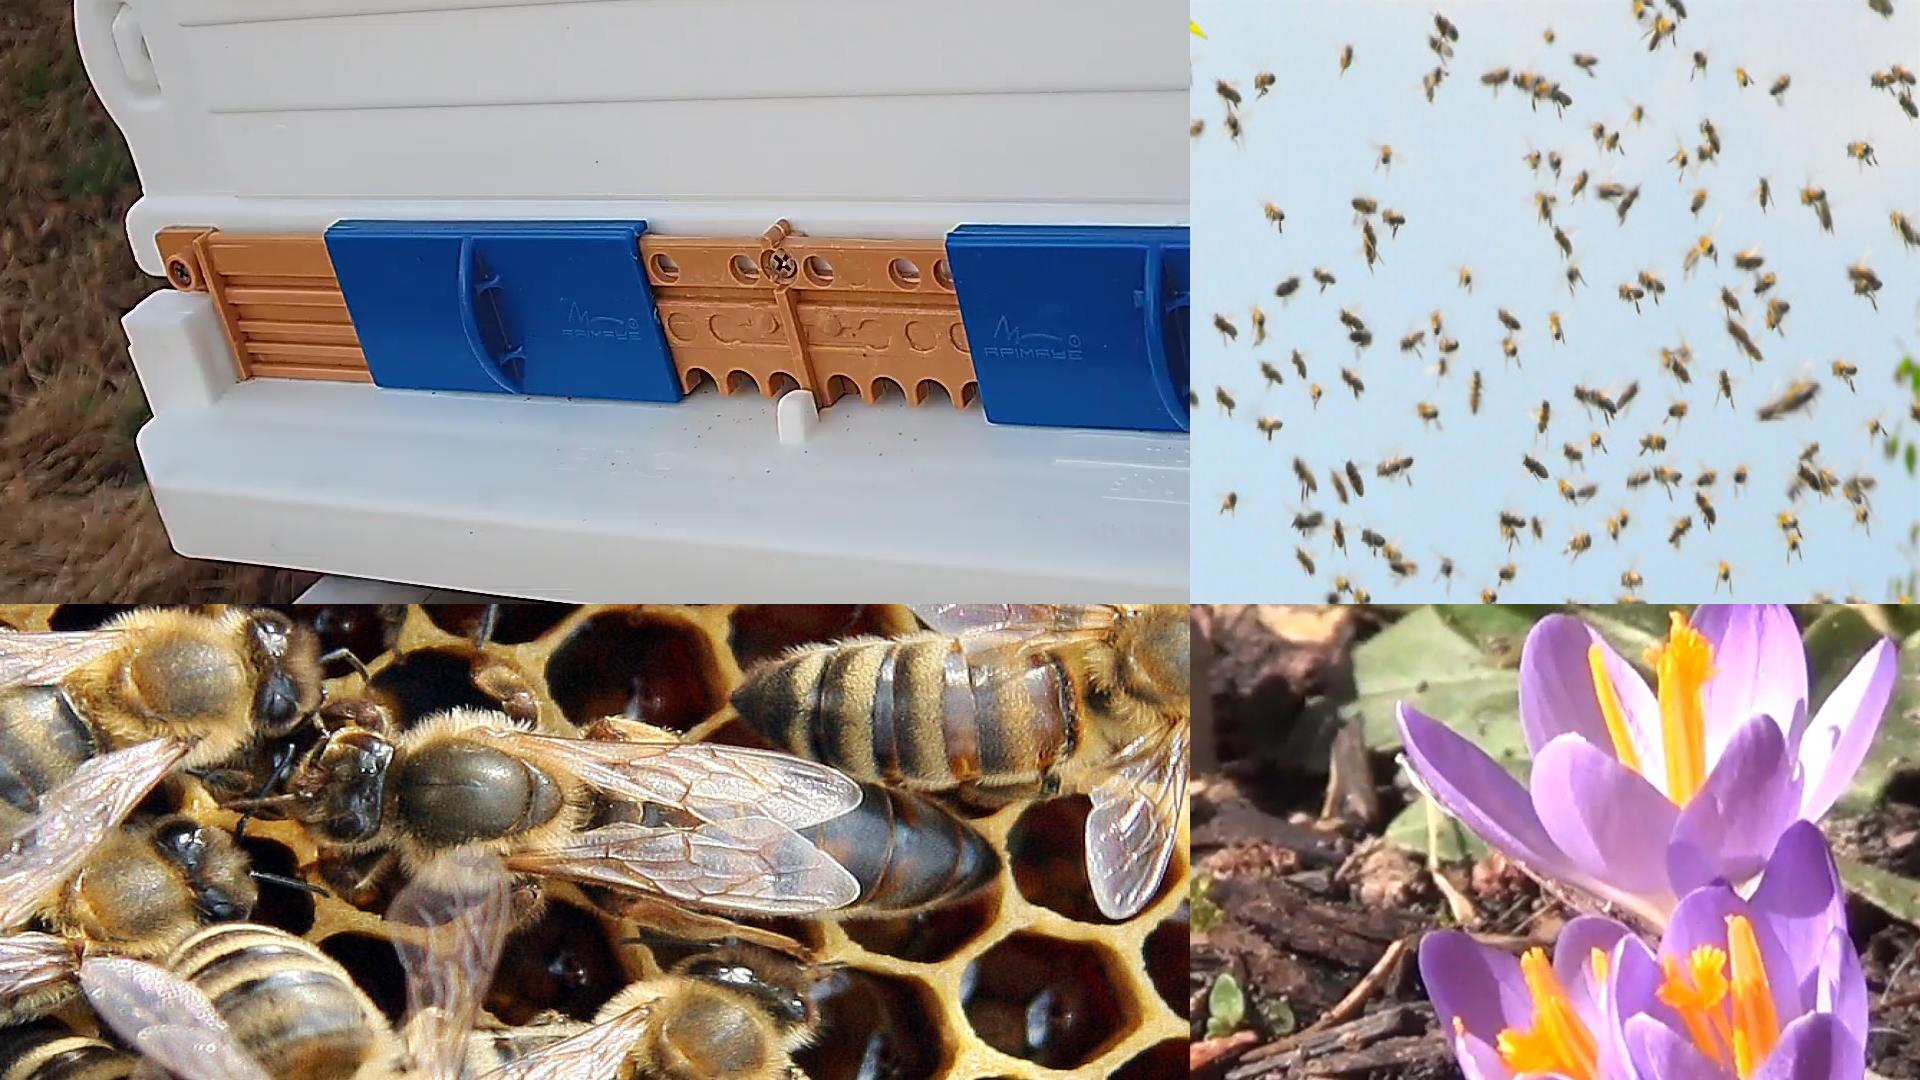bee: (731, 604, 1189, 789), (0, 613, 307, 836), (0, 825, 248, 1006), (158, 920, 417, 1079), (491, 957, 811, 1079), (0, 1009, 158, 1079), (1891, 211, 1919, 245), (1294, 456, 1317, 491), (1695, 491, 1716, 522), (1792, 380, 1820, 404), (1850, 266, 1883, 286), (1796, 463, 1818, 491), (1618, 380, 1639, 409), (1345, 462, 1362, 497), (1759, 400, 1789, 419), (1741, 336, 1763, 363), (1669, 516, 1692, 542), (1341, 367, 1365, 390), (1296, 546, 1315, 576), (1436, 12, 1457, 38), (1572, 386, 1598, 407), (1424, 67, 1444, 95), (1648, 13, 1663, 50), (1524, 455, 1548, 477), (1590, 392, 1615, 413), (1891, 65, 1916, 86), (1364, 223, 1377, 262), (1768, 301, 1788, 327), (1340, 311, 1366, 331), (1899, 94, 1919, 120), (1498, 307, 1520, 330), (1292, 348, 1308, 380), (1845, 476, 1876, 492), (1511, 74, 1540, 91), (1216, 80, 1241, 100), (1618, 187, 1636, 214), (1294, 512, 1320, 530), (1654, 468, 1681, 485), (1755, 272, 1776, 294), (1216, 315, 1237, 338), (1262, 361, 1283, 384), (1671, 360, 1691, 384), (1390, 456, 1414, 476), (1832, 359, 1857, 377), (1556, 225, 1572, 255), (1254, 309, 1267, 343), (1639, 435, 1665, 452), (1846, 142, 1873, 160), (1726, 320, 1747, 342), (1770, 74, 1791, 95), (1718, 368, 1733, 398), (1332, 472, 1346, 502), (1639, 273, 1663, 291), (1619, 282, 1643, 301), (1361, 527, 1385, 546), (1704, 124, 1720, 152), (1817, 469, 1832, 498), (1855, 280, 1875, 301), (1627, 471, 1650, 489), (1664, 0, 1687, 18), (1801, 186, 1825, 203), (1400, 331, 1424, 348), (1818, 202, 1833, 229), (1571, 170, 1586, 195), (1788, 476, 1804, 501), (1871, 73, 1896, 88), (1276, 277, 1298, 295), (1216, 386, 1234, 407), (1429, 38, 1451, 57), (1549, 313, 1563, 342), (1867, 0, 1894, 15), (1691, 190, 1706, 214), (1259, 417, 1283, 433), (1568, 534, 1592, 550), (1316, 268, 1336, 286), (1799, 440, 1818, 459), (1820, 468, 1840, 487), (1573, 53, 1598, 67), (1484, 69, 1509, 83), (1722, 289, 1739, 310), (1349, 330, 1370, 347), (1416, 402, 1437, 419), (1538, 401, 1549, 431), (1560, 480, 1576, 502), (1393, 562, 1415, 578), (1353, 198, 1377, 212), (1472, 371, 1480, 414), (1775, 513, 1799, 527), (1669, 398, 1688, 417), (1697, 469, 1717, 487), (1382, 542, 1402, 559), (1538, 83, 1557, 100), (1758, 177, 1768, 208), (1622, 572, 1643, 588), (1538, 194, 1551, 219), (1332, 520, 1345, 545), (1382, 210, 1404, 224), (1378, 459, 1396, 476), (1555, 90, 1572, 108), (1563, 443, 1582, 459), (1634, 0, 1654, 16), (1226, 112, 1240, 136), (1548, 150, 1561, 174), (1501, 513, 1526, 525), (1700, 236, 1716, 255), (1683, 249, 1698, 268), (1733, 465, 1749, 484), (1265, 206, 1284, 220), (1847, 483, 1862, 502), (1531, 516, 1543, 539), (1597, 185, 1623, 195), (1254, 73, 1275, 86), (1501, 521, 1515, 539), (1528, 149, 1540, 170), (1502, 339, 1516, 356), (1440, 338, 1458, 351), (1341, 45, 1352, 67), (1607, 131, 1619, 150), (1738, 257, 1763, 266), (1697, 146, 1713, 161), (1354, 589, 1371, 603), (1460, 268, 1472, 286), (1660, 347, 1669, 371), (1578, 487, 1597, 498), (1720, 560, 1731, 579), (1222, 493, 1237, 508), (1189, 121, 1204, 136), (1432, 311, 1441, 334), (1567, 265, 1578, 282), (1441, 558, 1453, 575), (1590, 430, 1601, 448), (1737, 67, 1747, 86), (1381, 144, 1391, 162), (1662, 24, 1675, 38), (1335, 578, 1350, 589), (1693, 53, 1706, 66), (1680, 339, 1688, 360), (1610, 518, 1618, 539), (1482, 591, 1498, 601), (1676, 148, 1687, 164), (1869, 419, 1880, 433), (1855, 509, 1867, 522), (1437, 357, 1445, 376), (1633, 104, 1642, 120), (1594, 123, 1604, 138), (1501, 568, 1513, 580), (1309, 385, 1320, 398), (1189, 390, 1197, 407), (1621, 508, 1629, 525), (1788, 535, 1797, 549), (1325, 593, 1338, 603), (1545, 29, 1553, 41)
queen: (323, 723, 1002, 920)
